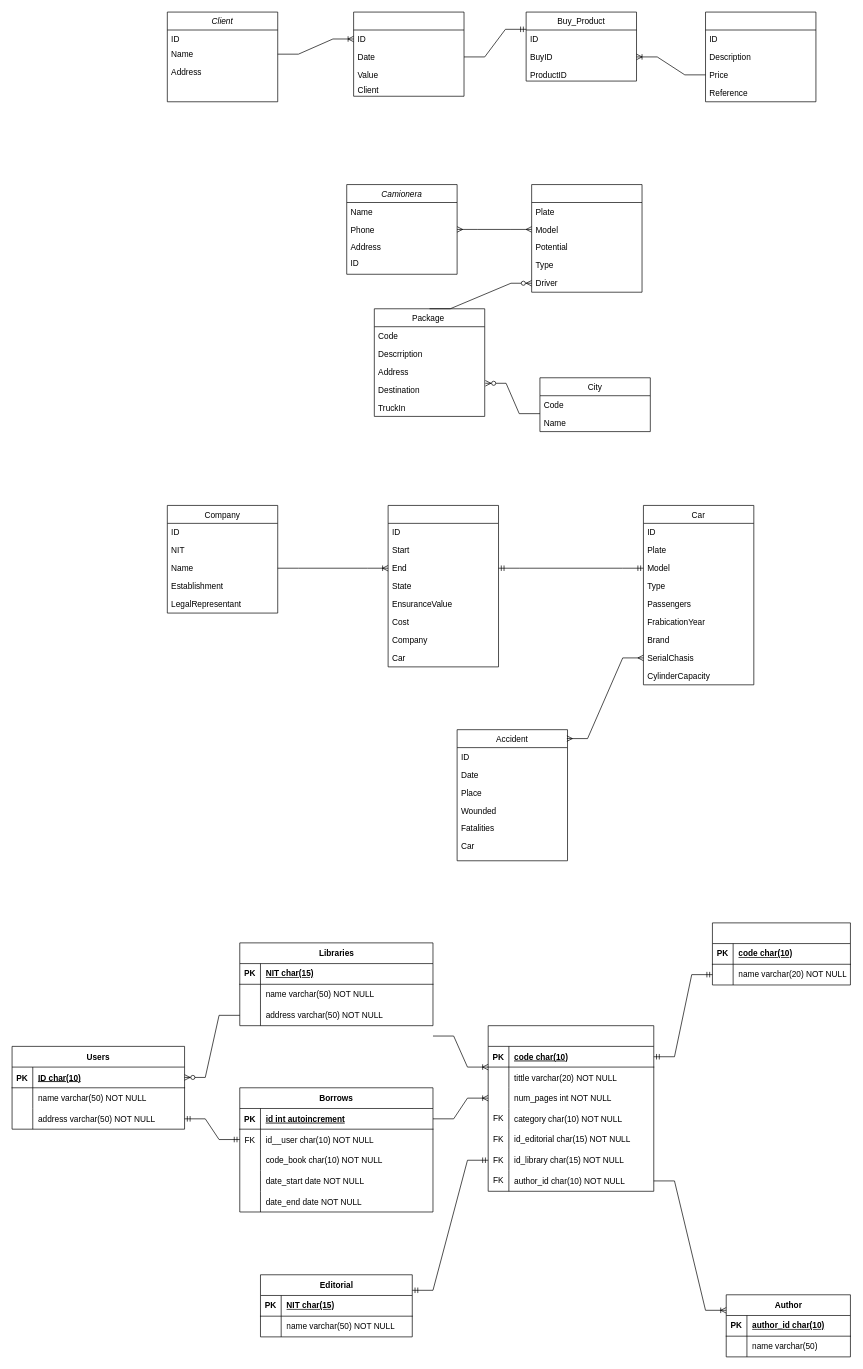
The diagram is 863 pixels wide and 1369 high, and some of its shapes have lost their labels. The shapes that lost their labels are listed below. From the top down, each one's box as (x1, y1, x2, y2) in pixels, then its label:
(353, 11, 464, 96): Buy
(705, 11, 816, 102): Product
(531, 184, 642, 292): Truck
(387, 505, 499, 667): Contract
(712, 922, 850, 985): Cateogory
(487, 1025, 654, 1191): Book
